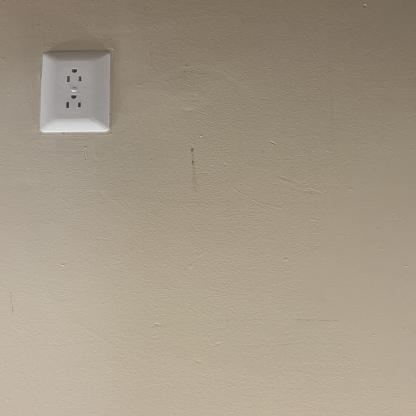OUTLET: (36, 48, 112, 134)
